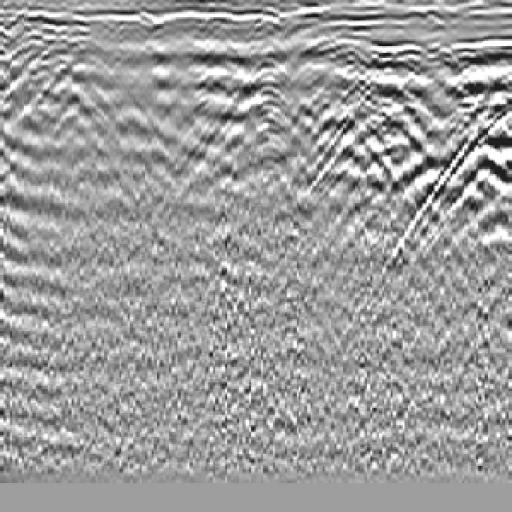non-metallic: (198, 31, 335, 225), (394, 42, 512, 267)
